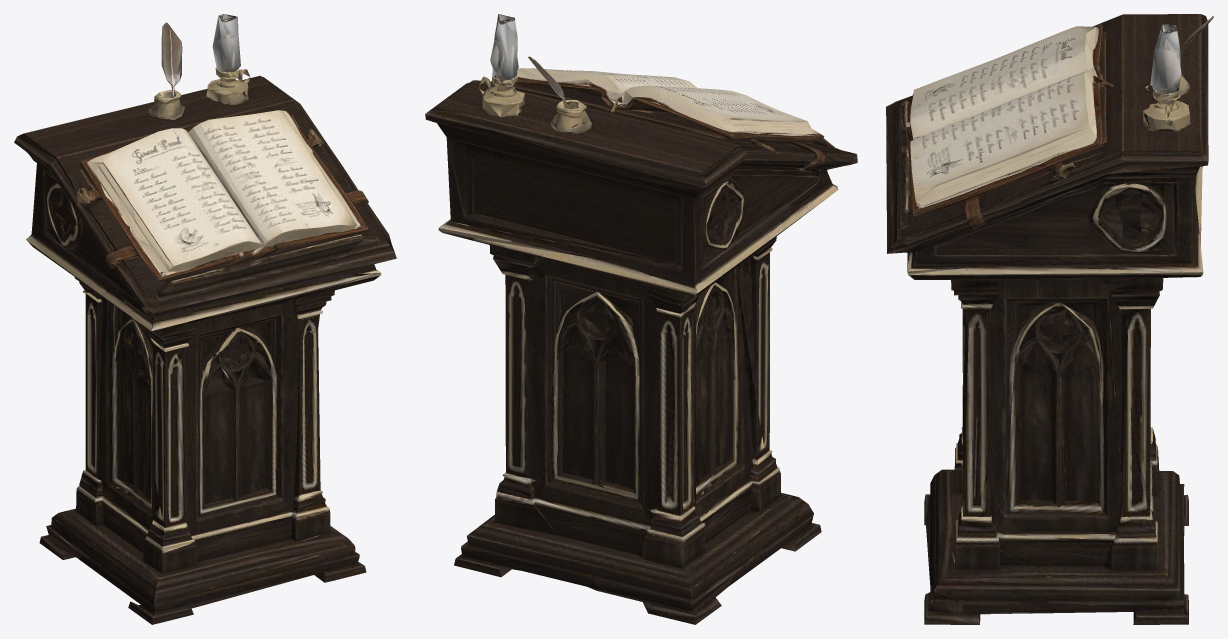
File: sp_m_lectern.glb
The picture shows the model from 3 angles, left to right: view 1: azimuth 30°, elevation 25°; view 2: azimuth 150°, elevation 25°; view 3: azimuth 270°, elevation 25°; orthographic projection. The views are drawn at different scales.
Parts seen in each view (by area): view 1: Mesh_0; view 2: Mesh_0; view 3: Mesh_0.
Boxes of the visible parts, bbox=[...] form: Mesh_0: bbox=[14, 14, 396, 624]; Mesh_0: bbox=[425, 14, 857, 624]; Mesh_0: bbox=[886, 14, 1213, 624].
Size of the model in its own units: 1.05 by 1.9 by 0.9798.
Materials: 1 (1 with a texture image).
